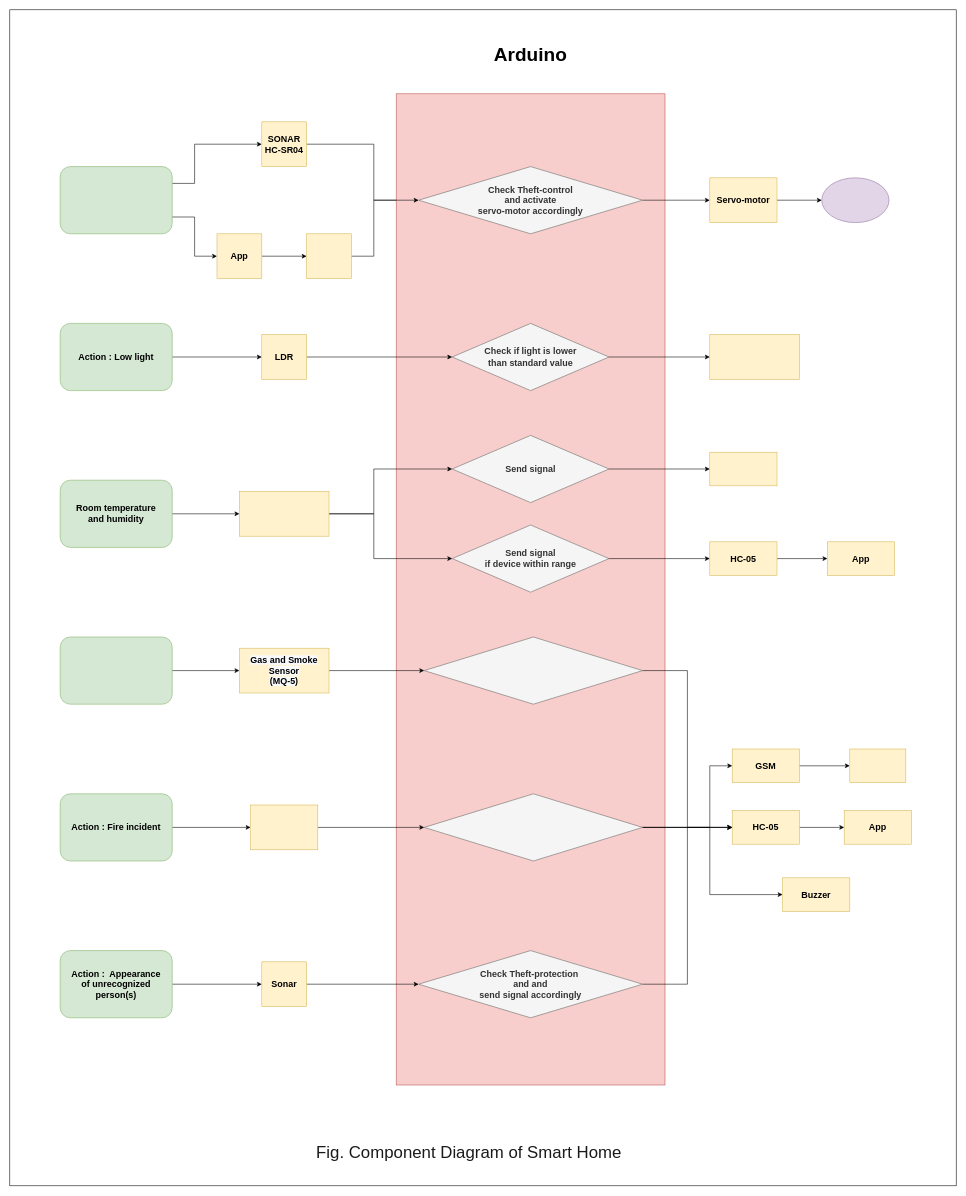
This 966x1196 diagram has some shape labels left out. Here are the shapes that lost their labels. From the top down, the centre of each, then its label:
the point at 116,200: Action : Standing in front of door or pressing app button
the point at 855,200: Door open
the point at 328,256: Bluetooth Module (HC-05)
the point at 754,356: Switch Control Board
the point at 743,469: LCD Screen
the point at 284,513: Temperature and Humidity Sensor (DHT22)
the point at 116,670: Action : Gas leak
the point at 533,670: Check occurrence of smoke or gas and send signal accordingly
the point at 877,765: SMS
the point at 284,827: Flame Sensor (MQ-5)
the point at 533,827: Check occurrence of fire and send signal accordingly
